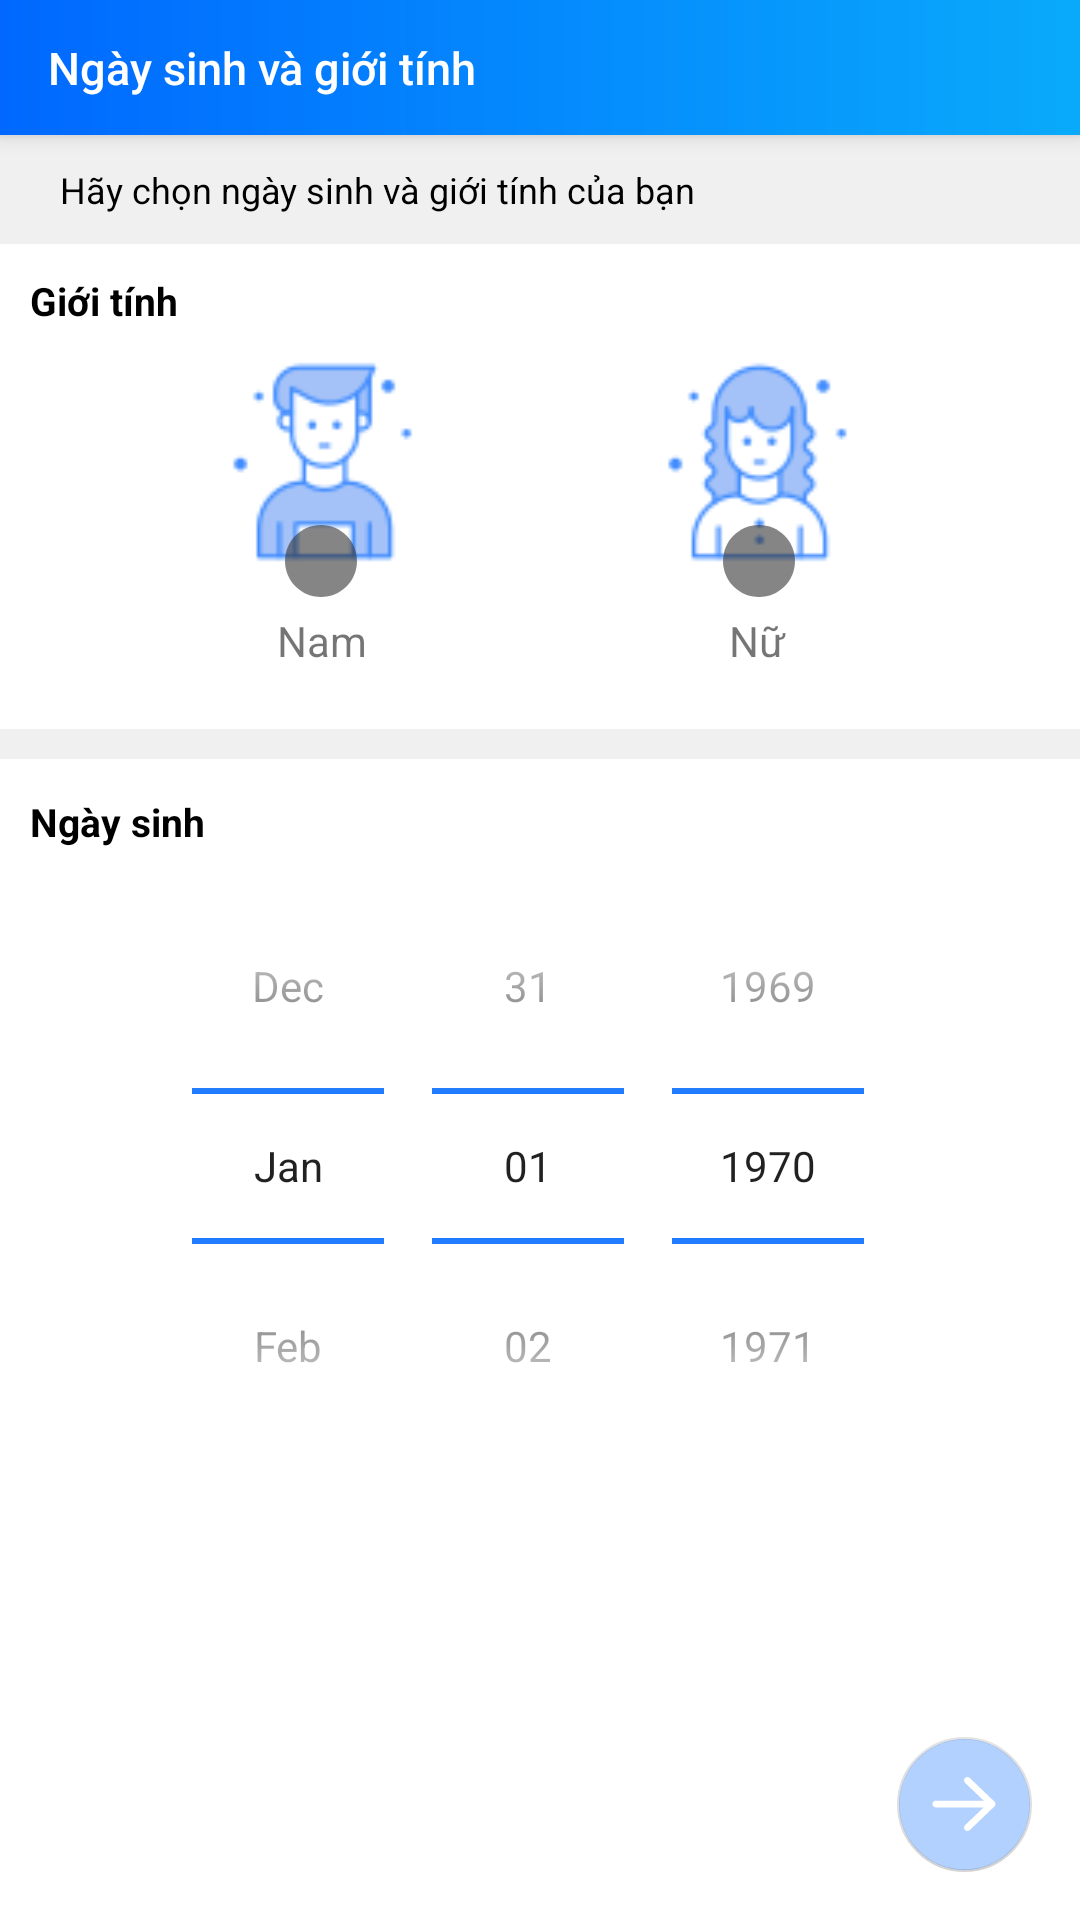

Icons on this 1080w x 1920h Android screen, each with its box as box(x1, y1, x2, y2):
arrow right: box(897, 1737, 1032, 1872)
